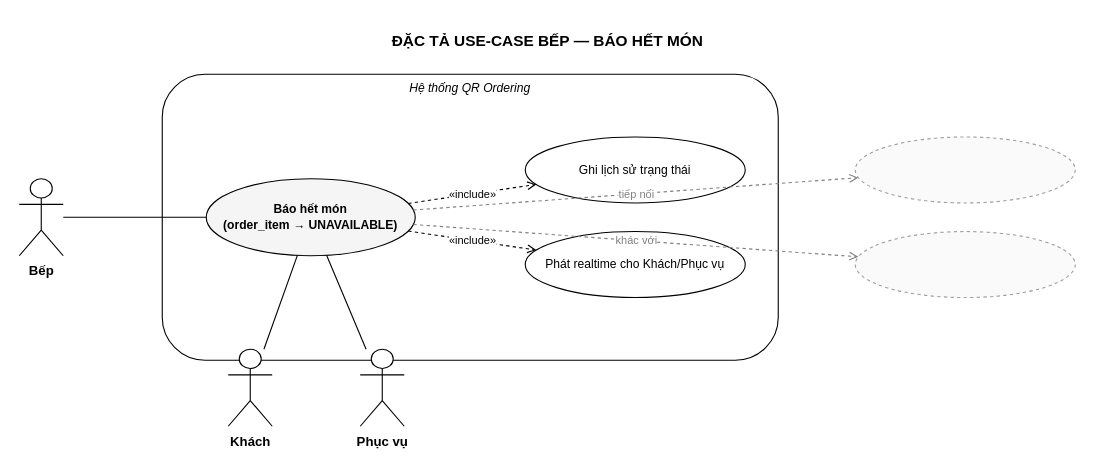
The diagram is 1095 pixels wide and 468 high, and some of its shapes have lost their labels. The centre of each missing label's shape, as x and y in pixels:
Bật/tắt còn-hết thực đơn (UC-27, Quản lý): [964,264]
Hàng đợi món (UC-16): [964,169]
